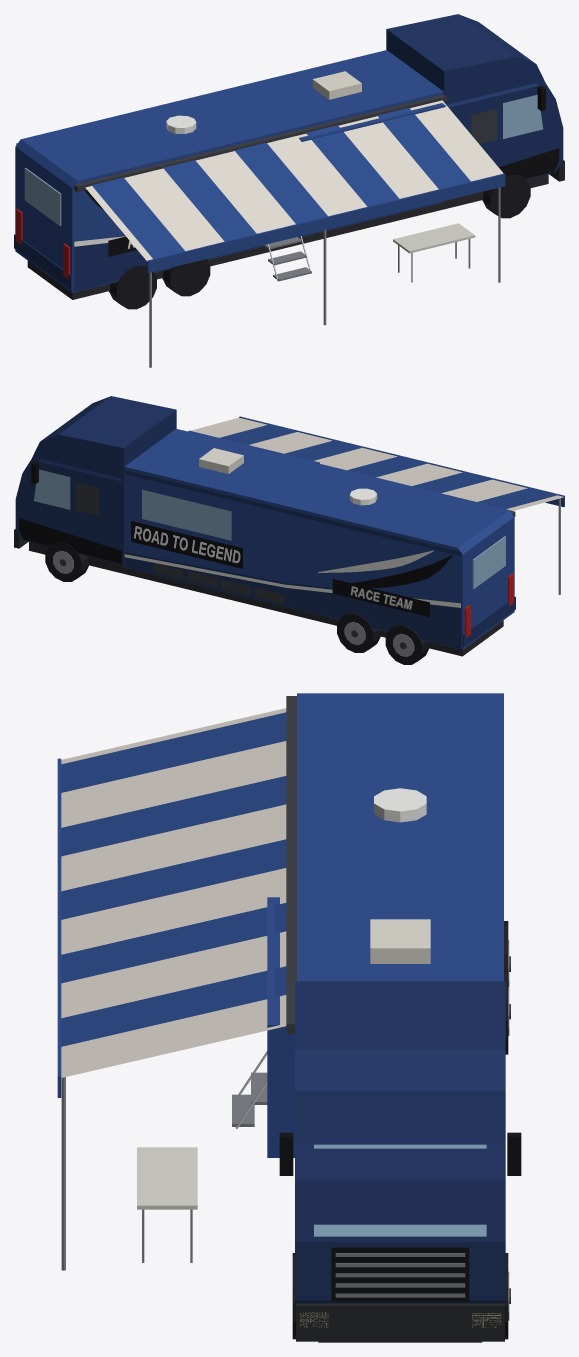
Rendered from motorhome_long.glb.
The picture shows the model from 3 angles, top to bottom: view 1: azimuth 30°, elevation 25°; view 2: azimuth 150°, elevation 25°; view 3: azimuth 270°, elevation 25°; orthographic projection. The views are drawn at different scales.
Visible parts, largest first — view 1: Body, Awning, BikesOut; view 2: Body, Awning; view 3: Body, Awning, BikesOut.
Part boxes in pixels (bbox=[...]): Body: bbox=[14, 14, 564, 309]; Awning: bbox=[85, 100, 505, 367]; BikesOut: bbox=[393, 223, 475, 282]; Body: bbox=[14, 396, 515, 664]; Awning: bbox=[190, 416, 564, 594]; Body: bbox=[232, 693, 521, 1342]; Awning: bbox=[57, 708, 286, 1270]; BikesOut: bbox=[137, 1147, 197, 1262].
Size of the model in its own units: 12.04 by 3.78 by 5.37.
18 materials, 1 textured.
